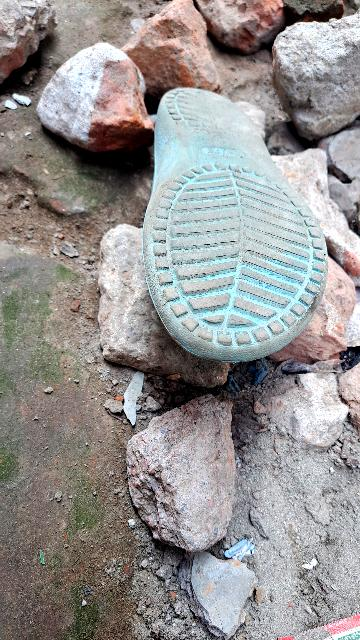sandal: (148, 85, 318, 371)
